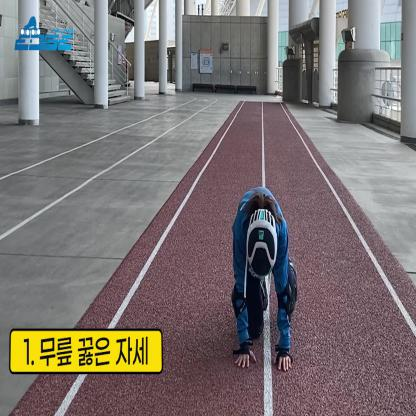Fall_Down: (231, 185, 298, 375)
